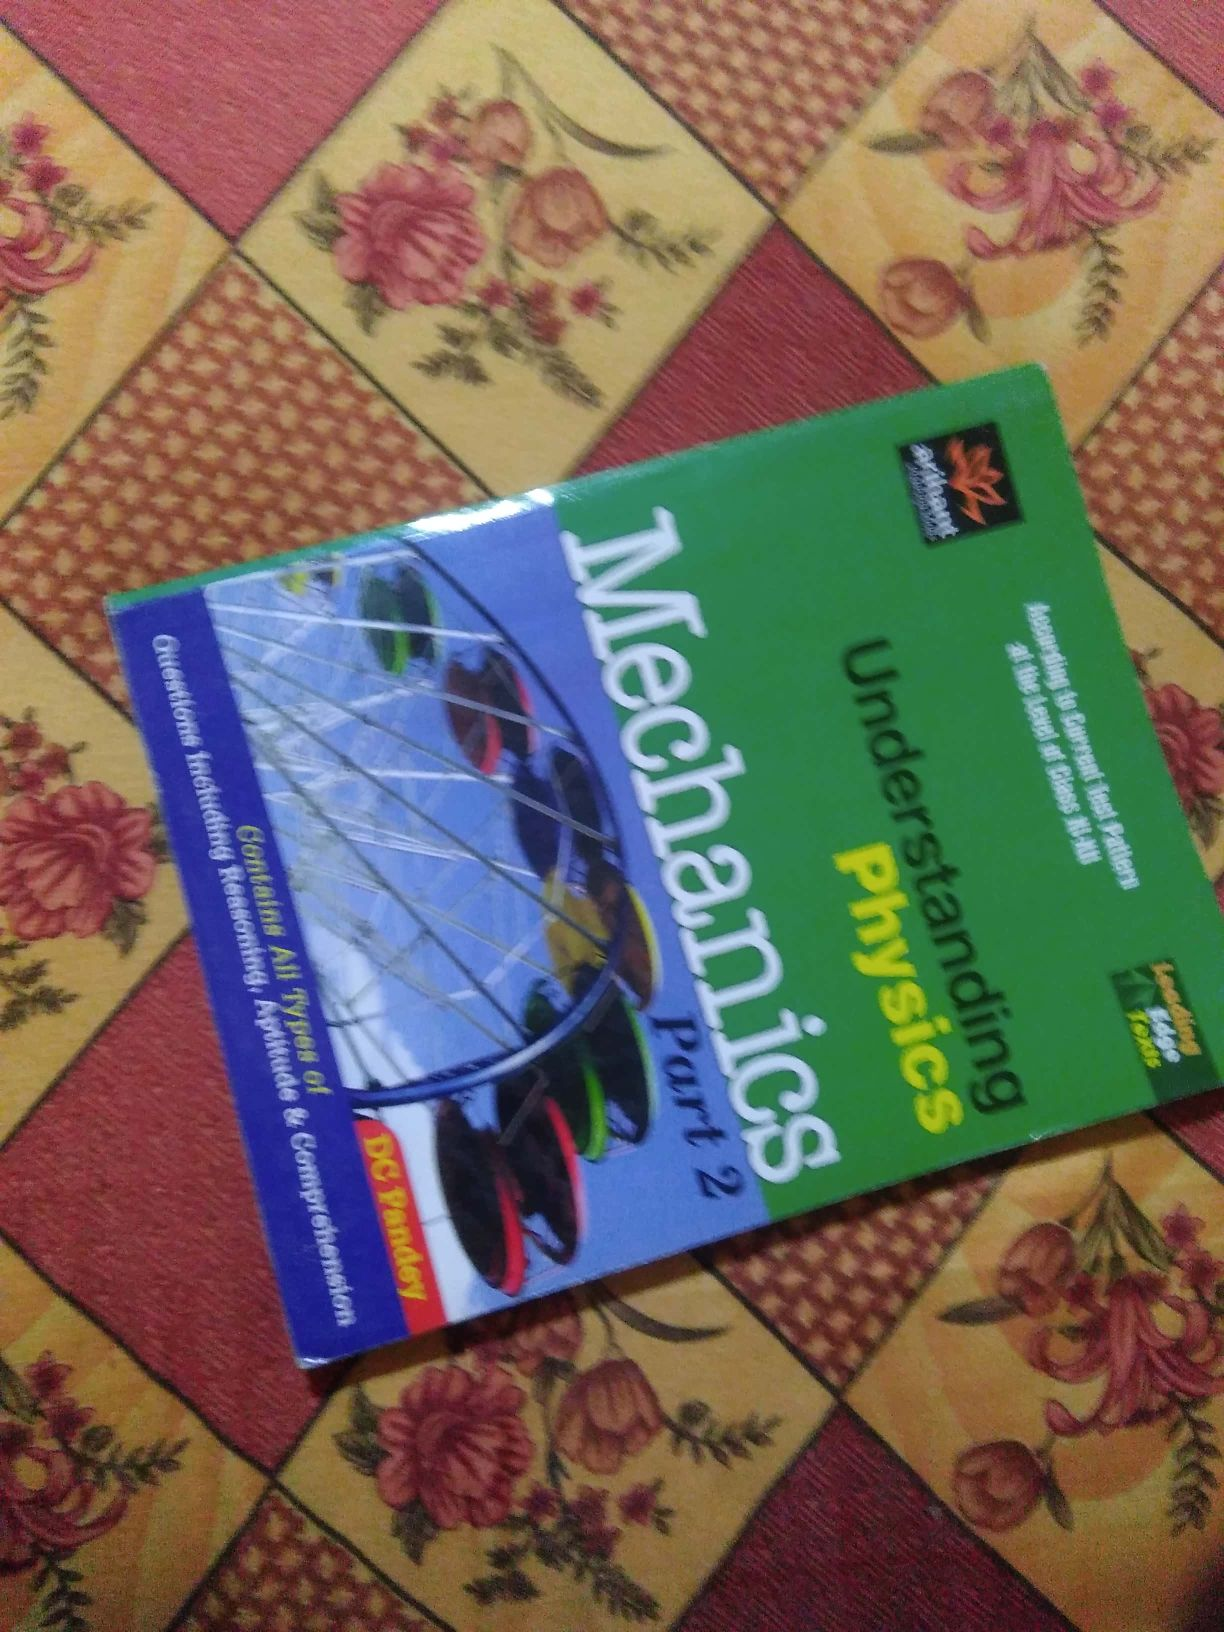mechanics: (58, 415, 1193, 1282)
